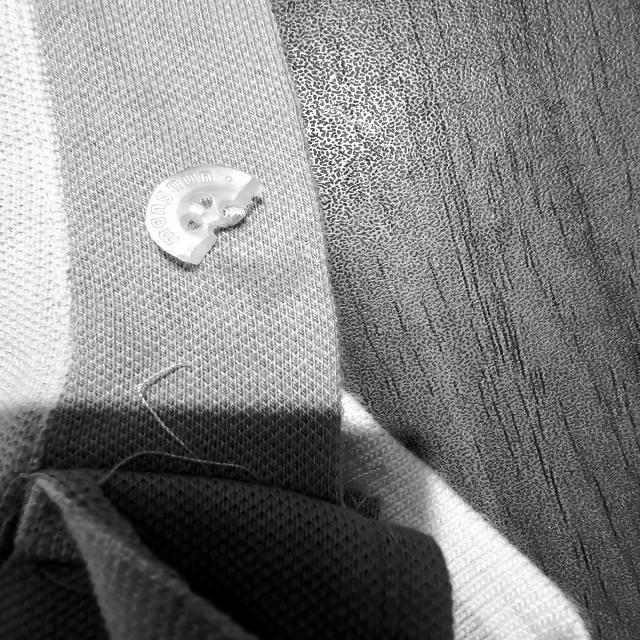Broken_button: (142, 152, 270, 278)
